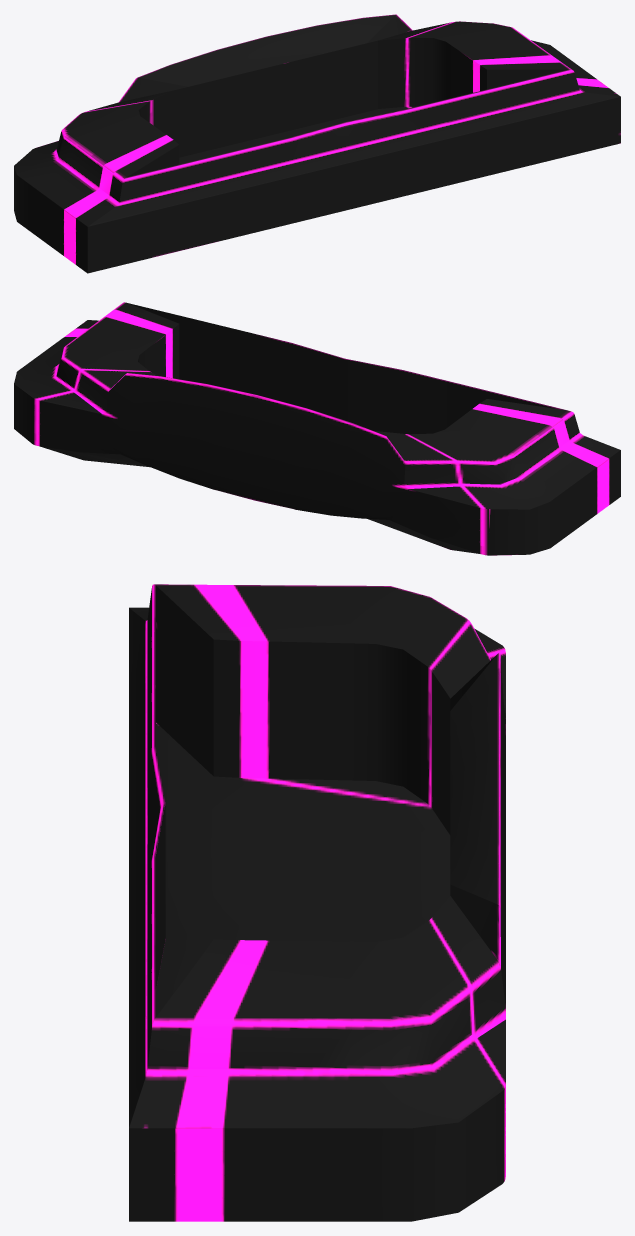
The picture shows the model from 3 angles, top to bottom: view 1: azimuth 30°, elevation 25°; view 2: azimuth 150°, elevation 25°; view 3: azimuth 270°, elevation 25°; orthographic projection. The views are drawn at different scales.
Visible parts, largest first — view 1: dj_up_Baked; view 2: dj_up_Baked; view 3: dj_up_Baked.
Boxes of the visible parts, x1,y1,x2,y2 form: dj_up_Baked: (14,14,620,273); dj_up_Baked: (14,302,620,555); dj_up_Baked: (129,584,505,1221).
Bounding box in the file's own units: 2795 × 566 × 856.
1 material, 1 textured.
